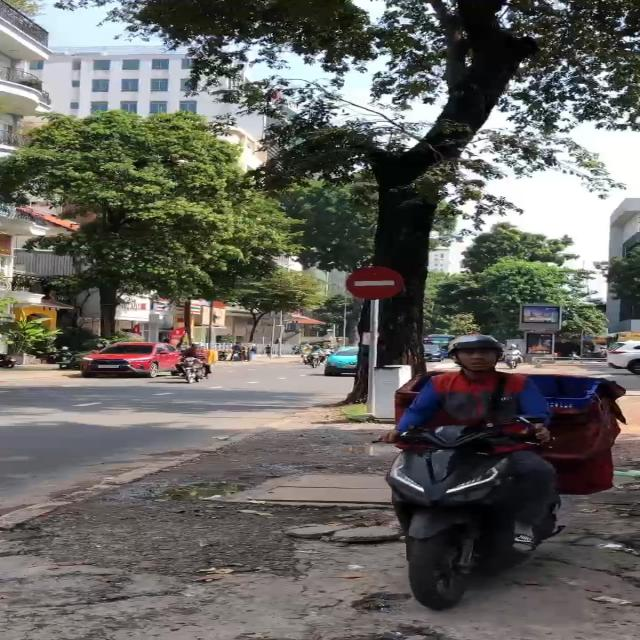Bien bao cam di nguoc chieu: (343, 262, 406, 302)
